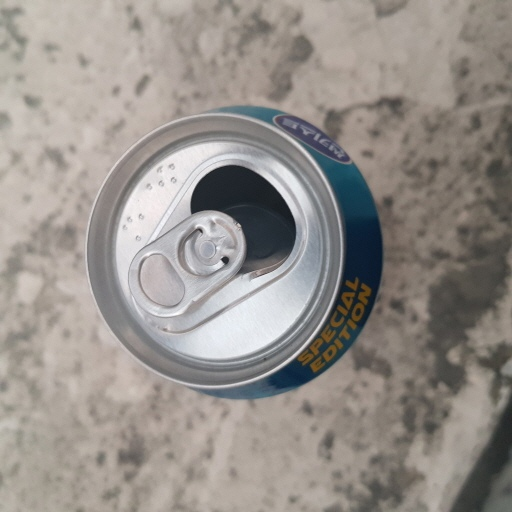Metal_0: (83, 104, 386, 402)
